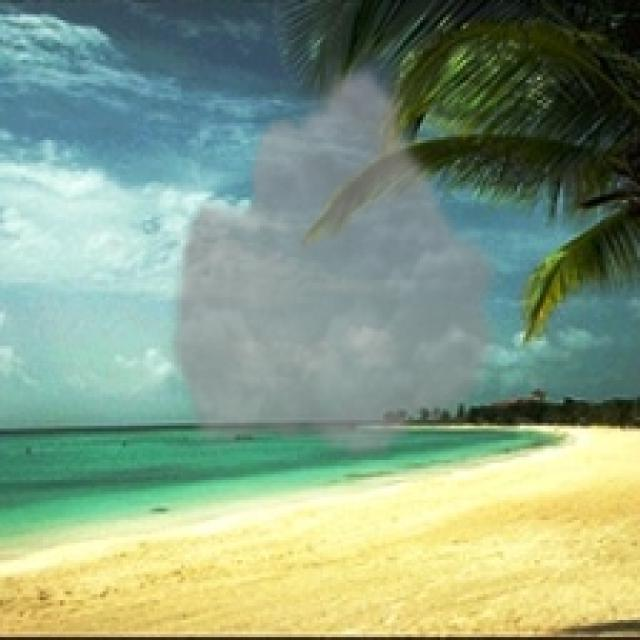smoke: (163, 57, 508, 463)
